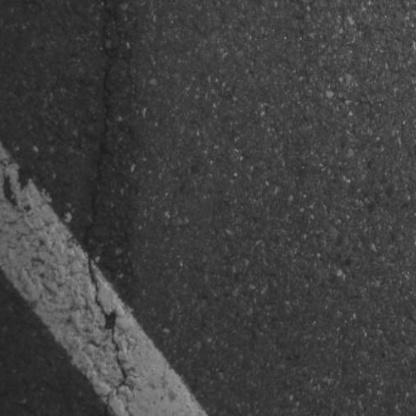Cracks: (80, 66, 117, 322), (92, 0, 112, 13)
